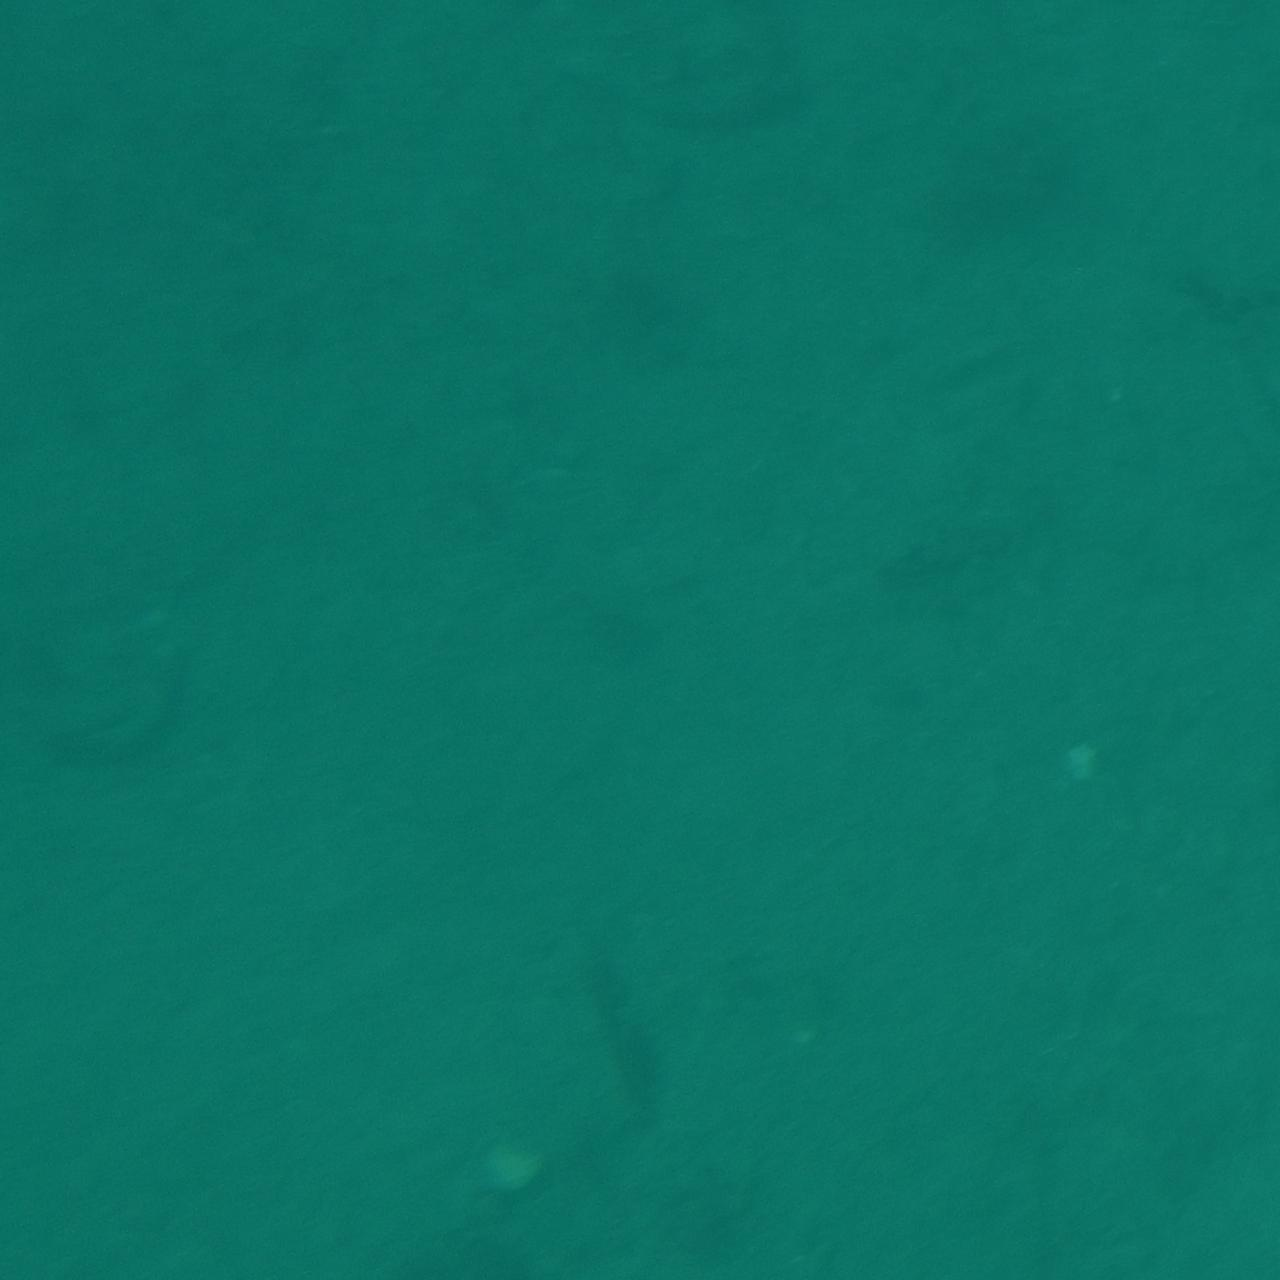Holothuria tubulosa: (496, 26, 855, 132), (23, 622, 193, 794), (347, 1198, 579, 1280), (595, 0, 840, 77), (912, 1198, 1110, 1280)
